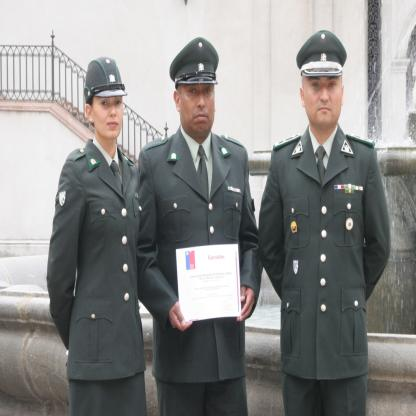Helmet: (83, 56, 129, 105)
